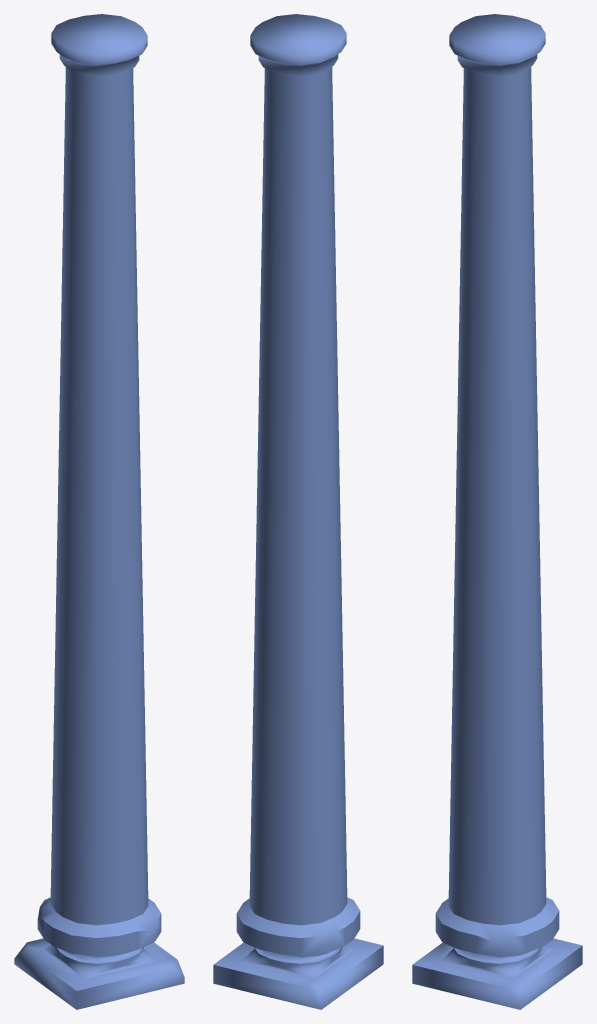
File: pillar03tall.fbx
3 views of the same model, side by side, from view 1: azimuth 30°, elevation 25°; view 2: azimuth 150°, elevation 25°; view 3: azimuth 330°, elevation 25° (orthographic).
Parts seen in each view (by area): view 1: Pilar_02; view 2: Pilar_02; view 3: Pilar_02.
Part boxes in pixels (x1=…): Pilar_02: x1=14, y1=14, x2=184, y2=1009; Pilar_02: x1=213, y1=14, x2=383, y2=1009; Pilar_02: x1=412, y1=14, x2=582, y2=1009.
Size of the model in its own units: 88.54 by 736 by 88.54.
